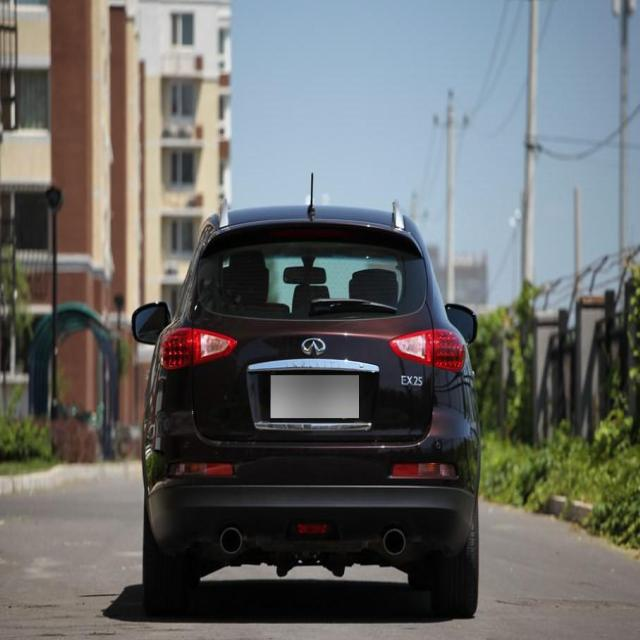back_glass: (197, 225, 427, 324)
back_left_side_light: (159, 326, 239, 373)
back_right_side_light: (388, 326, 467, 374)
front_left_side_mirror: (130, 298, 174, 346)
front_right_side_mirror: (443, 300, 481, 344)
rear_bumper: (142, 403, 482, 560)
